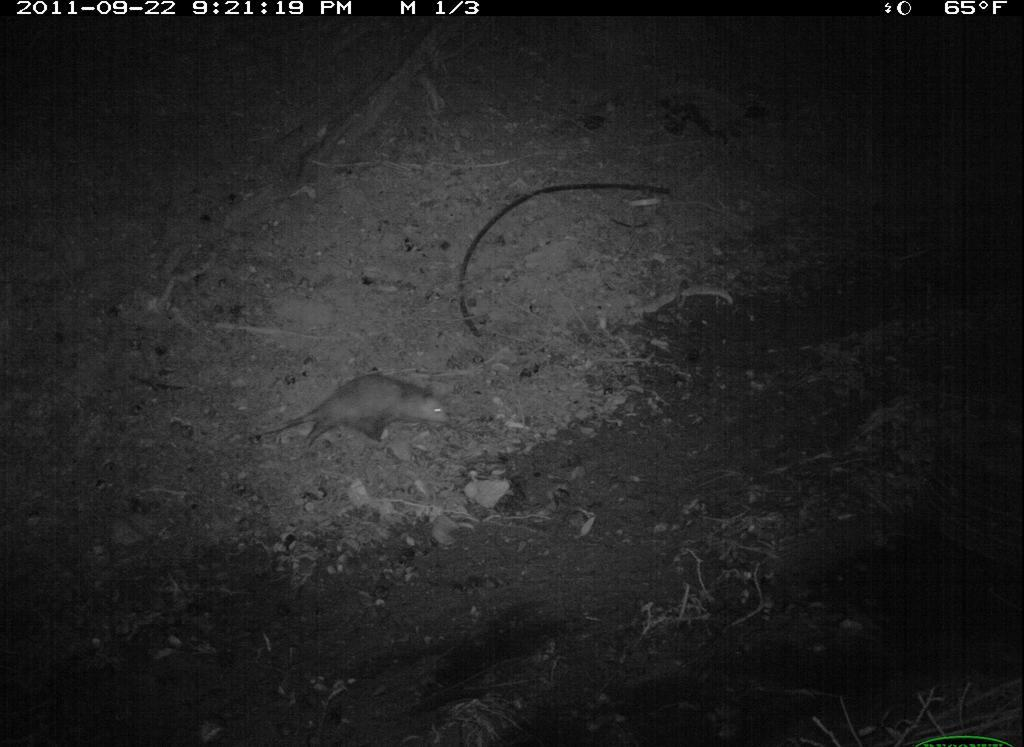opossum: (244, 372, 457, 461)
